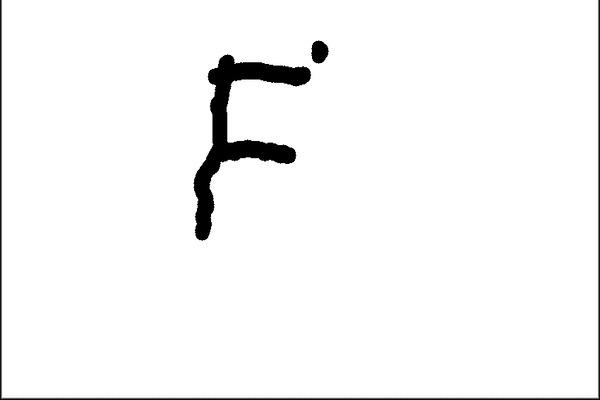F: (186, 53, 312, 244)
